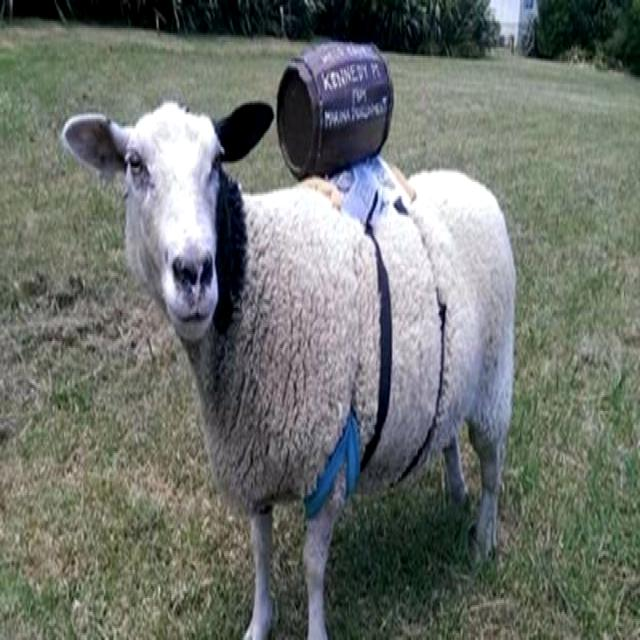sheep: (61, 98, 517, 640)
